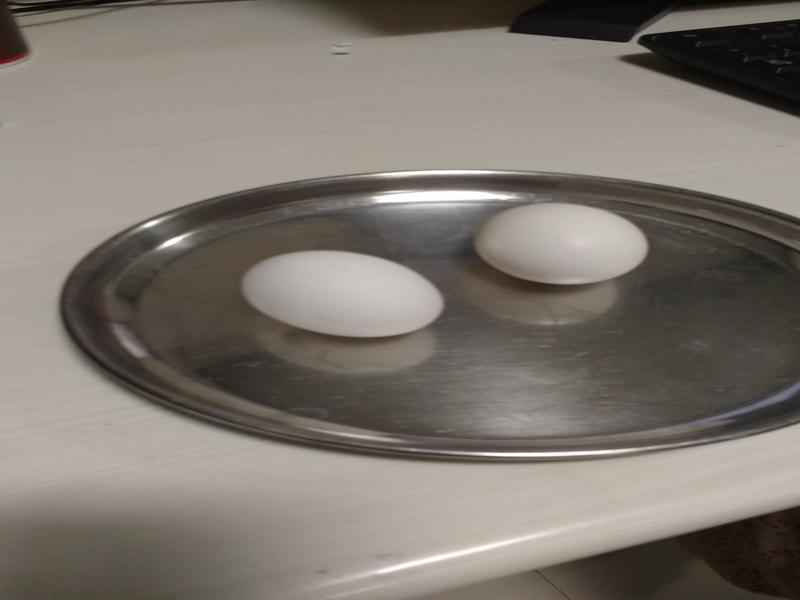egg: (242, 247, 444, 342)
